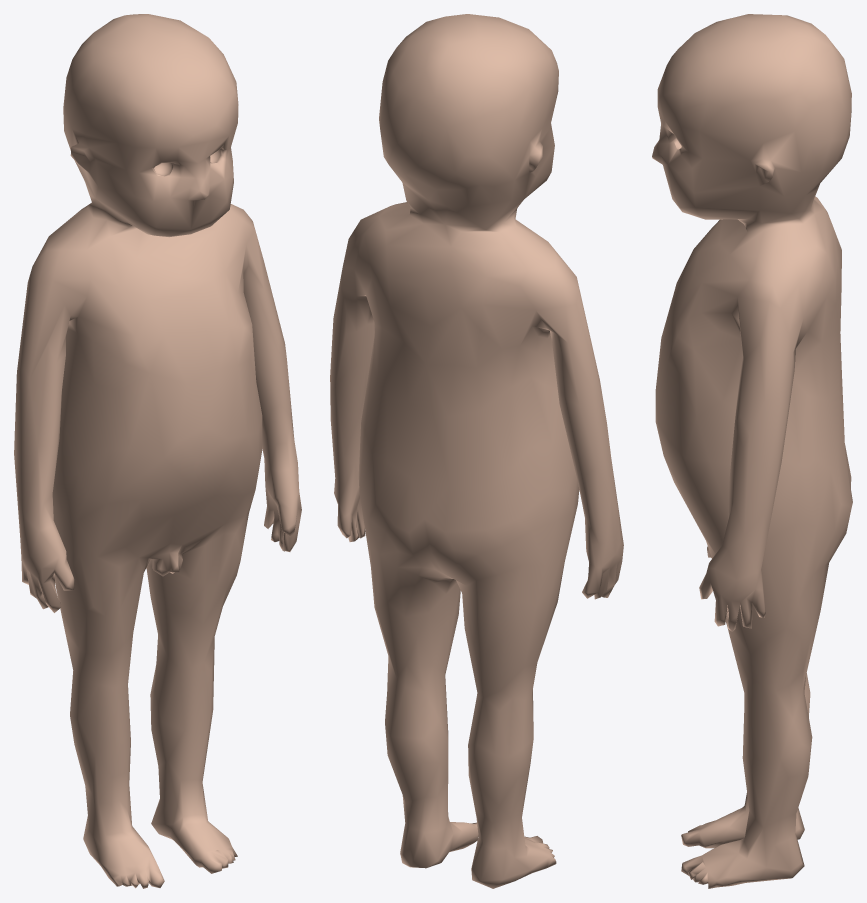
The model's file is pediatric_infant_male.surface.LOD3.glb.
The picture shows the model from 3 angles, left to right: view 1: azimuth 30°, elevation 25°; view 2: azimuth 150°, elevation 25°; view 3: azimuth 270°, elevation 25°; orthographic projection. The views are drawn at different scales.
Visible parts, largest first — view 1: PEDIATRIC.INFANT.MALE.SURFACE.SKIN; view 2: PEDIATRIC.INFANT.MALE.SURFACE.SKIN; view 3: PEDIATRIC.INFANT.MALE.SURFACE.SKIN.
Boxes of the visible parts, bbox=[...] form: PEDIATRIC.INFANT.MALE.SURFACE.SKIN: bbox=[14, 14, 301, 888]; PEDIATRIC.INFANT.MALE.SURFACE.SKIN: bbox=[330, 14, 623, 888]; PEDIATRIC.INFANT.MALE.SURFACE.SKIN: bbox=[652, 14, 852, 888].
Size of the model in its own units: 0.2615 by 0.7603 by 0.1657.
